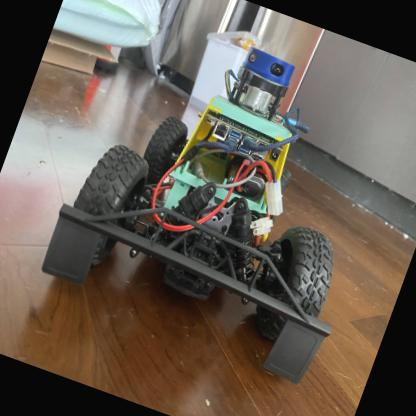mushr_car: (22, 0, 415, 400)
